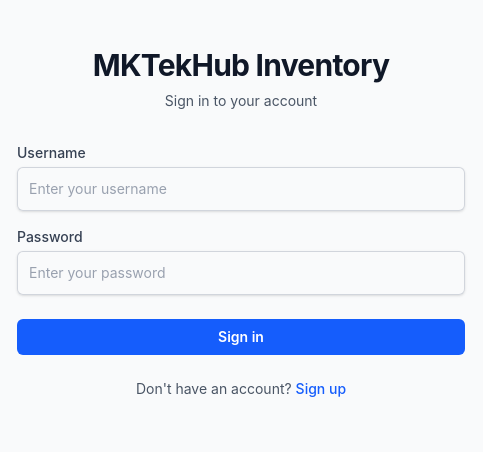
Test: LoginPage › Form Submission - Error Handling › should display default error message when no specific message is provided
Type "testuser" into the field with placeholder "Enter your username". click: (241, 189)
box: [17,167,465,211]
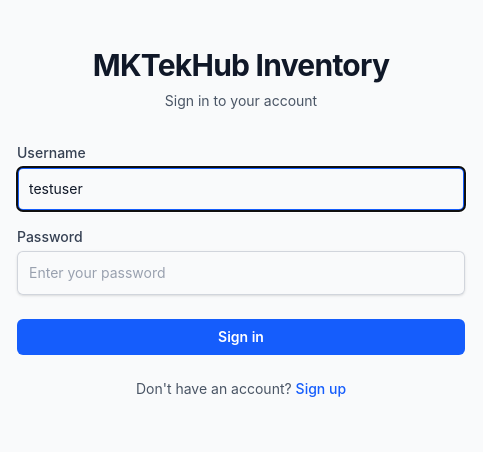
Type "password123" into the password field with placeholder "Enter your password". click: (241, 273)
box: [17,251,465,295]
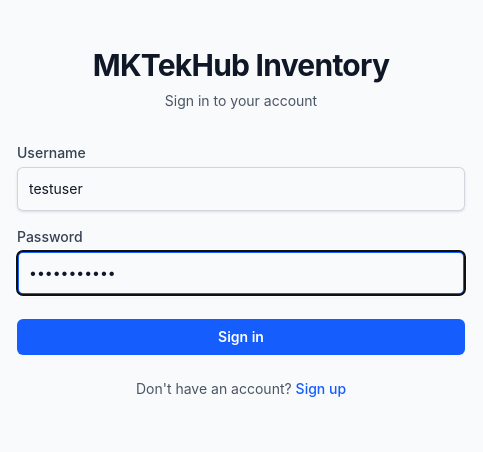
Click the button "Sign in". click: (241, 337)
box: [17,319,465,355]
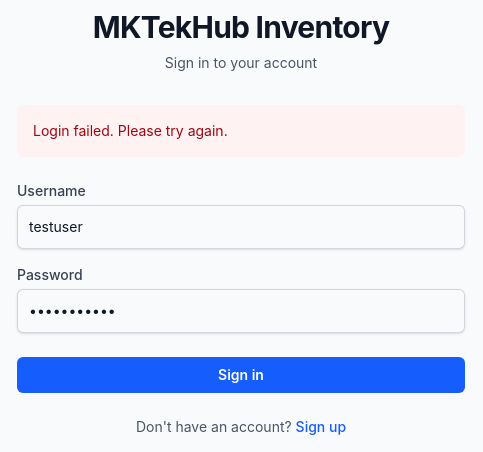
Now the text "Login failed. Please try again." is shown, box [33,122,228,139]
